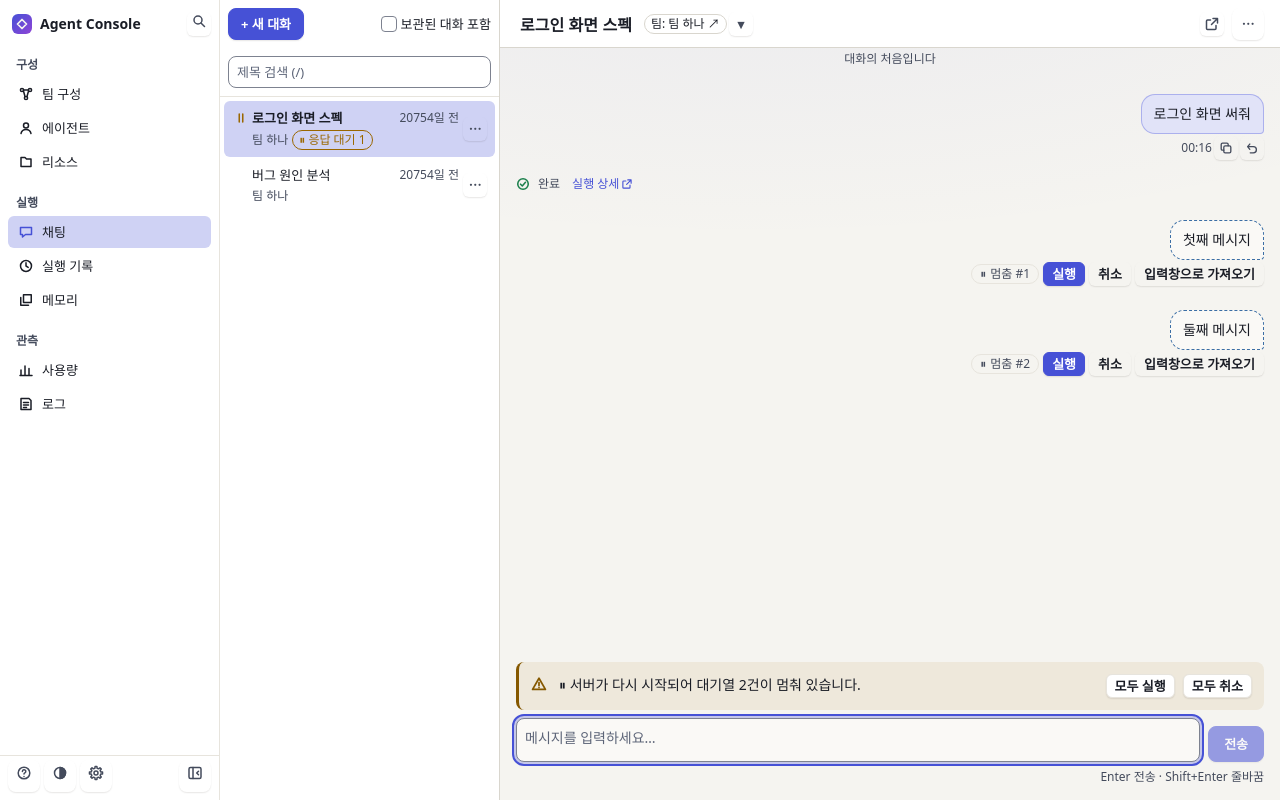
재시작 뒤 멈춘 대기열 › 실행 실패는 행 아래에 서버 메시지를 보인다
The width and height of the screenshot is (1280, 800).
Click the button "실행" next to "멈춤 #1".
click(1064, 274)  # box [1043,262,1085,286]
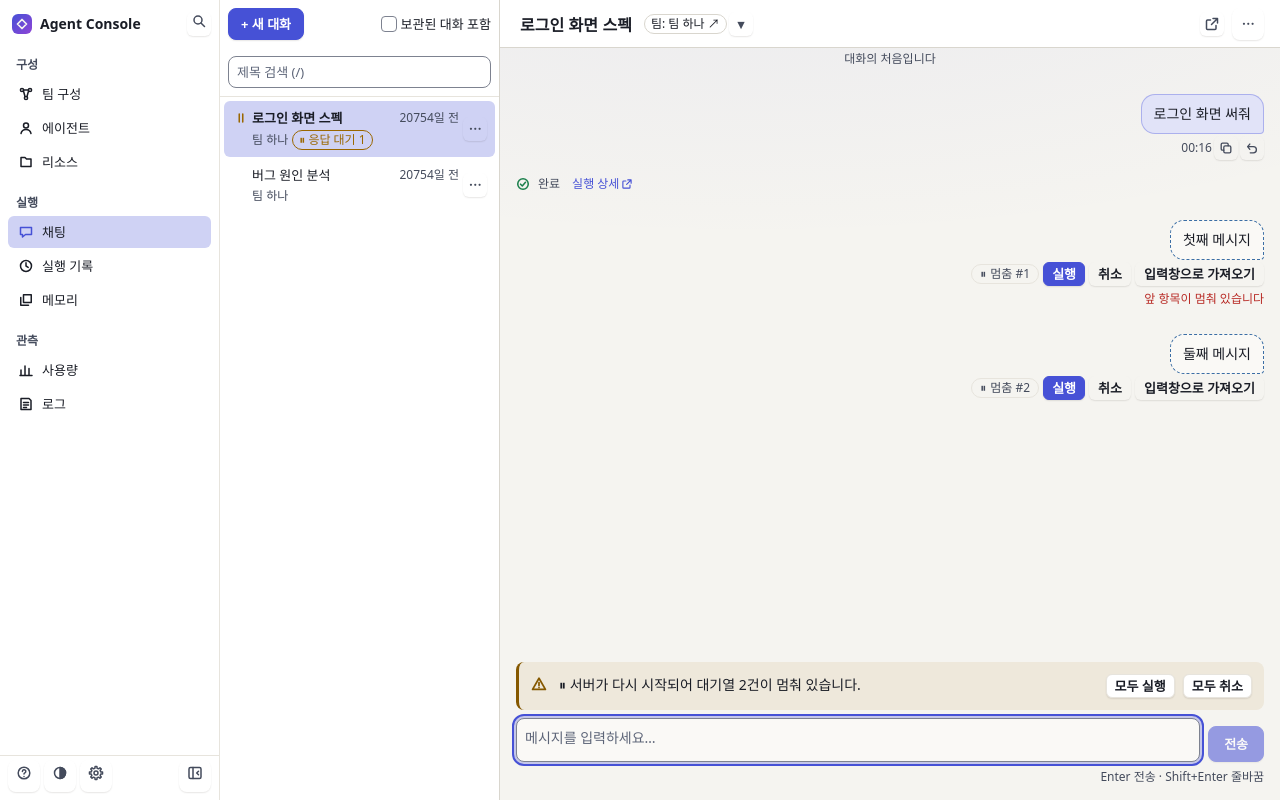
Result: the text "앞 항목이 멈춰 있습니다" is shown at [1144,288,1264,310]
